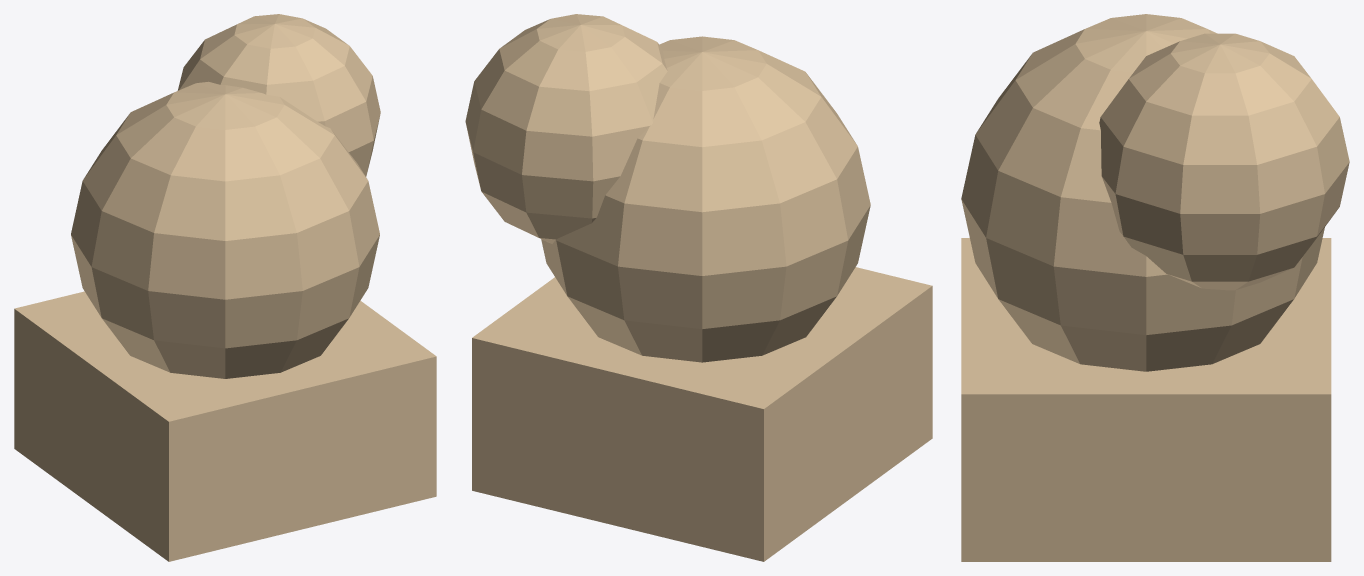
File: planter.glb
3 views of the same model, side by side, from view 1: azimuth 30°, elevation 25°; view 2: azimuth 150°, elevation 25°; view 3: azimuth 270°, elevation 25° (orthographic). The views are drawn at different scales.
Parts seen in each view (by area): view 1: p_planter; view 2: p_planter; view 3: p_planter.
Part boxes in pixels (box(x1,y1,x2,y2)): p_planter: box(14, 14, 436, 561); p_planter: box(465, 14, 932, 561); p_planter: box(961, 14, 1349, 561).
Size of the model in its own units: 1.13 by 1.45 by 1.05.
